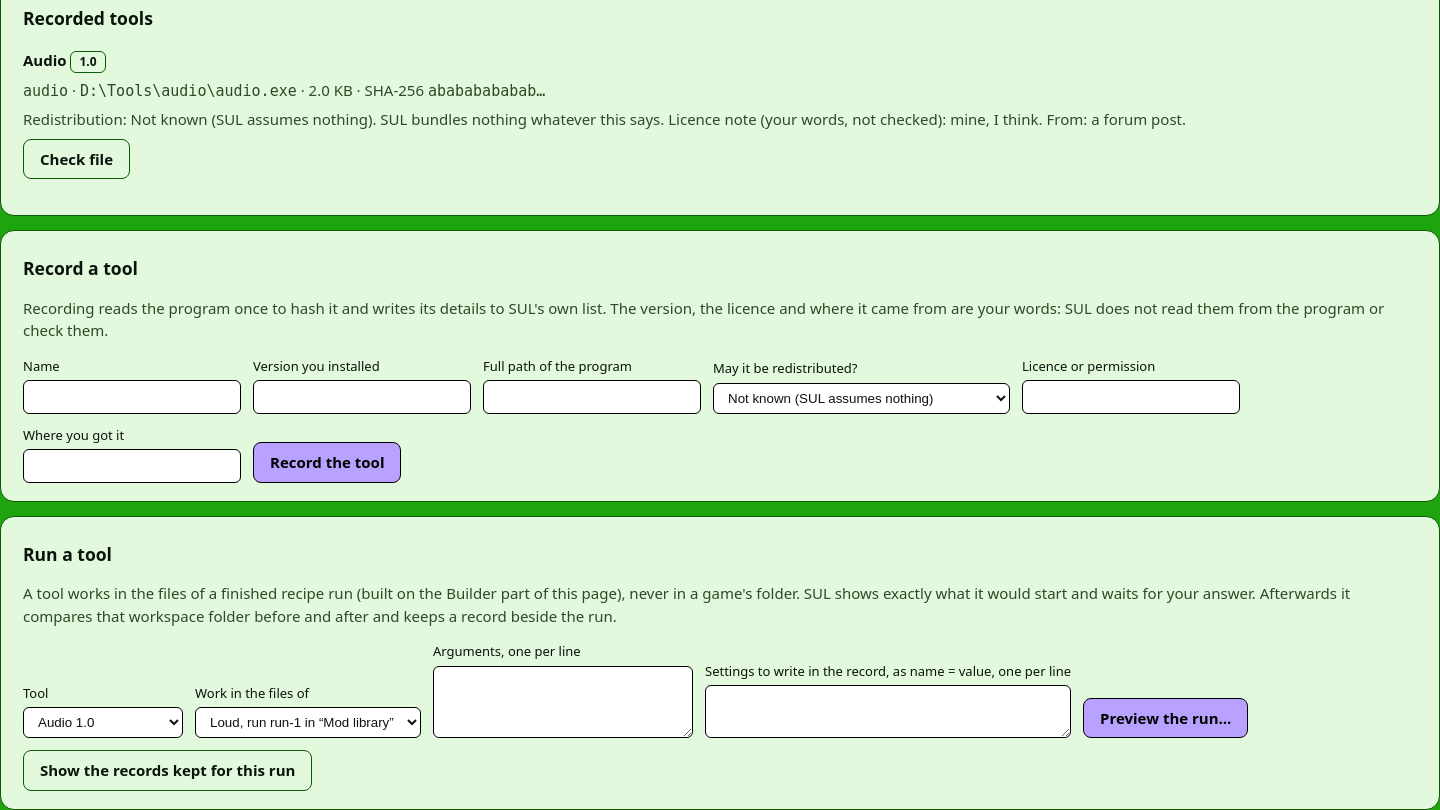
Test: the tools panel, clicked through › the records kept for a run are listed with what each did, and records that could not be read are named
Later steps or results of the test are not shown.
(page scrolled)
What coordinates should you click on to do the following:
click the button "Show the records kept for this run"
I would click on:
 (168, 770)
Its box is [23,750,312,791].
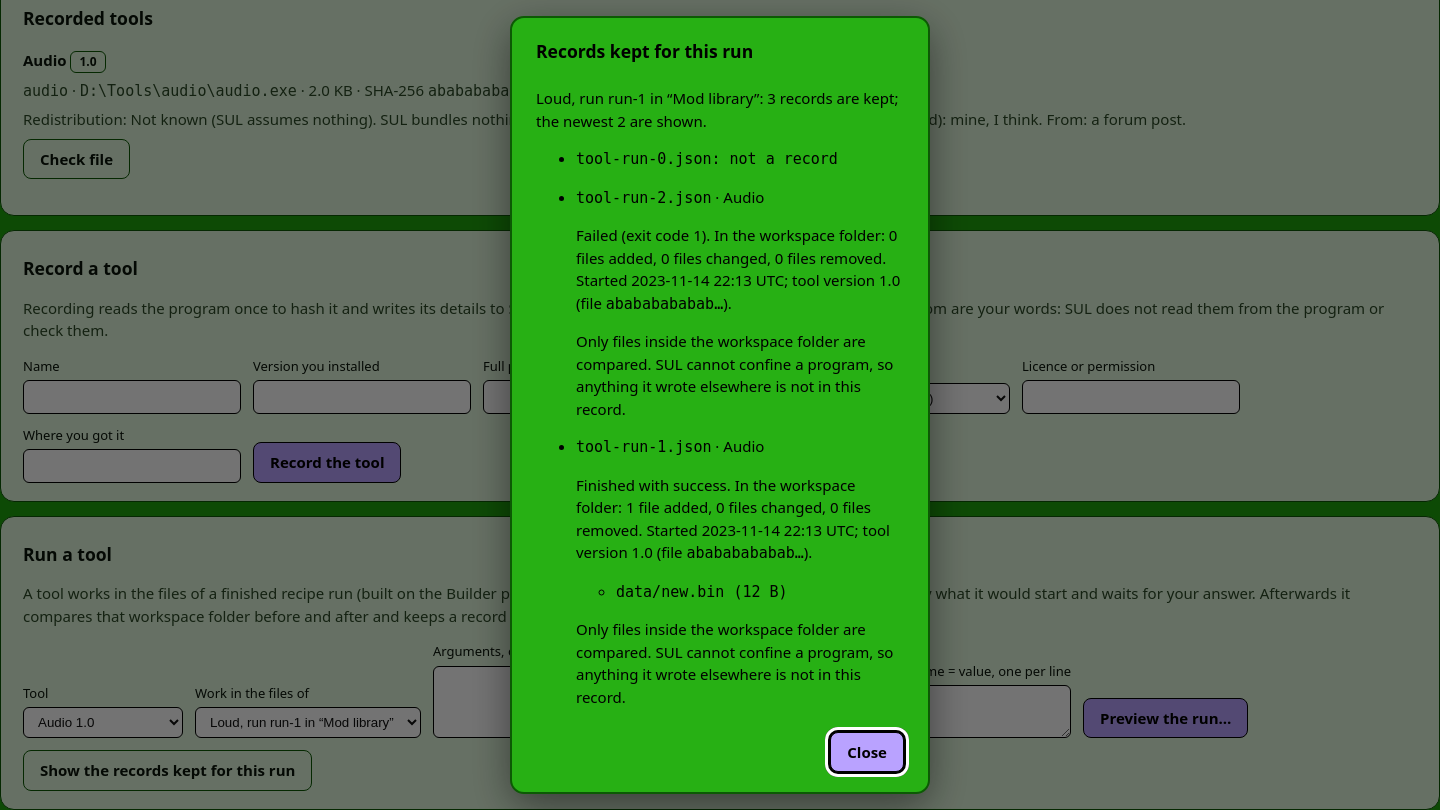
Expected: the dialog shows "Loud, run run-1 in “Mod library”: 3 records are kept; the newest 2 are shown.", [510,16,930,794]
